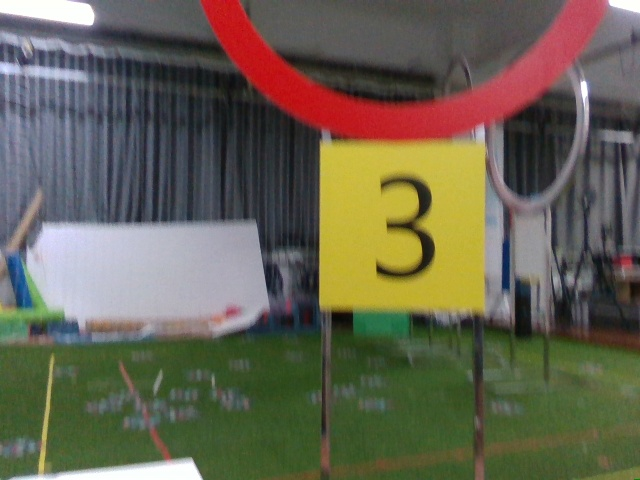target: (322, 135, 484, 305)
